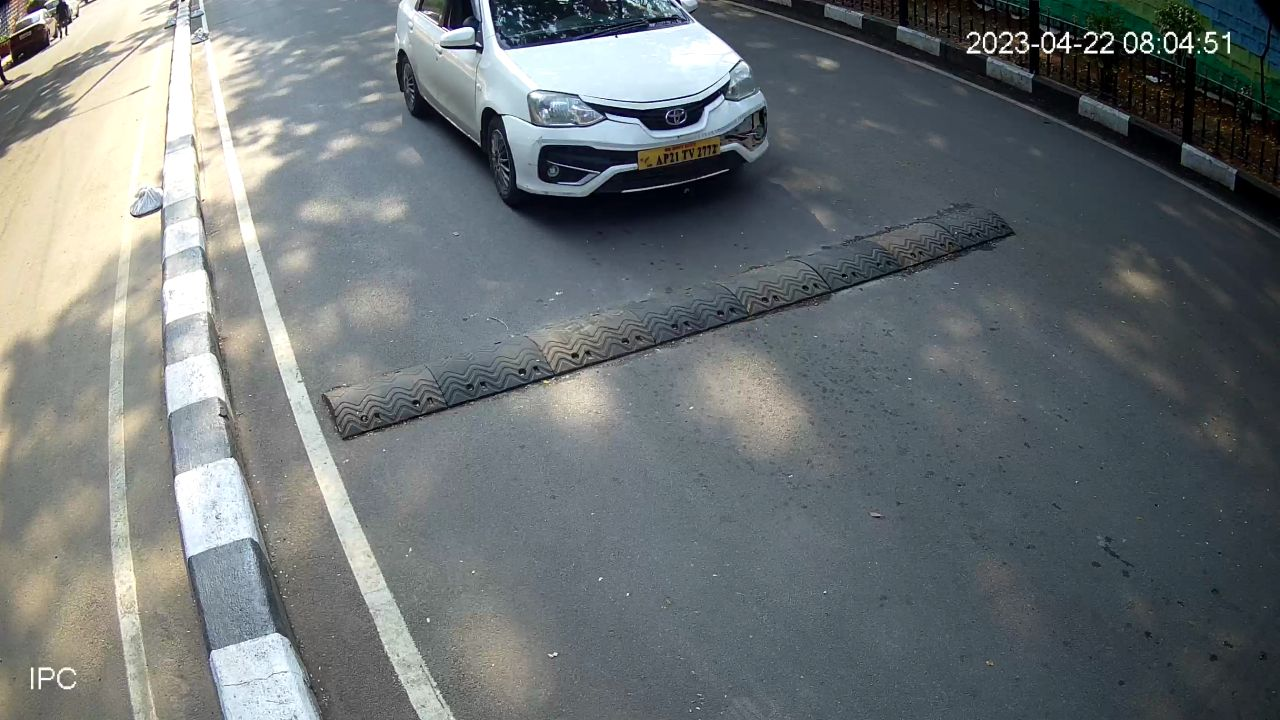license_plate: (632, 131, 723, 176)
